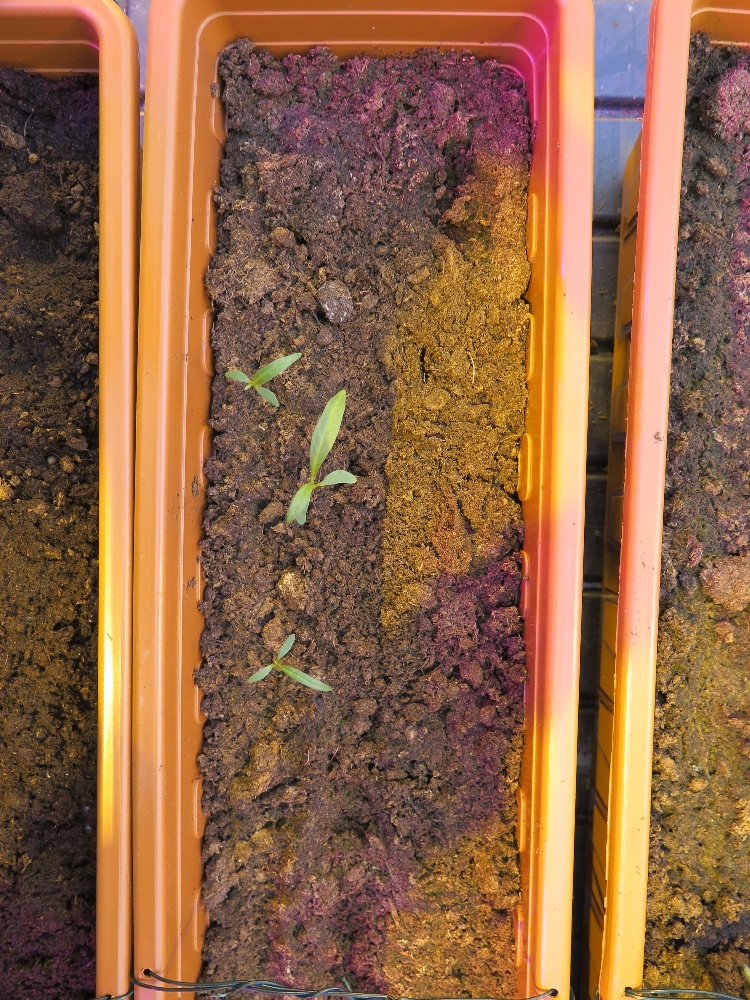weed: (285, 385, 357, 527), (247, 629, 334, 695), (224, 349, 302, 413)
